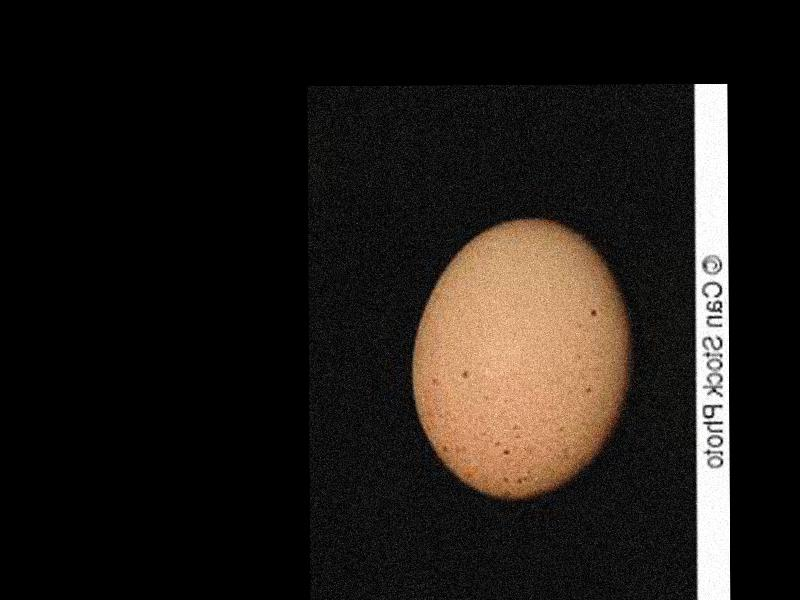Eggs: (412, 217, 635, 498)
